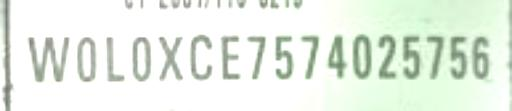letter: (24, 32, 68, 81), (150, 31, 188, 86), (183, 31, 217, 84), (371, 34, 405, 83), (69, 34, 103, 83), (100, 34, 130, 87), (294, 34, 326, 83), (268, 31, 296, 84), (218, 31, 246, 84), (127, 32, 153, 89), (394, 32, 424, 81), (244, 31, 270, 84), (324, 34, 352, 83), (418, 34, 448, 79), (443, 31, 469, 78), (350, 32, 374, 81), (469, 34, 495, 79)
